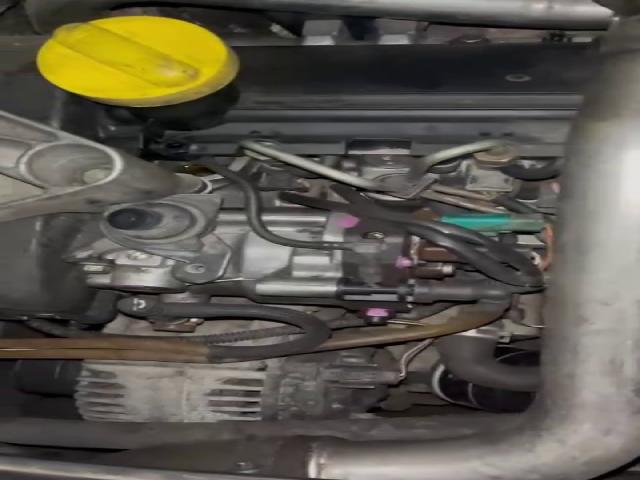alternator: (72, 348, 403, 422)
high_pressure_pump: (83, 209, 459, 324)
